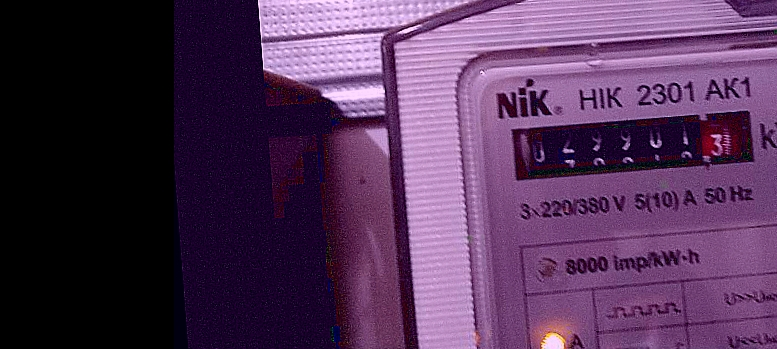0: (528, 136, 548, 164), (646, 121, 664, 151)
1: (677, 118, 692, 147)
2: (557, 127, 577, 156)
3: (707, 130, 726, 157)
9: (587, 125, 605, 153), (618, 124, 633, 152)
screen: (501, 99, 766, 191)
